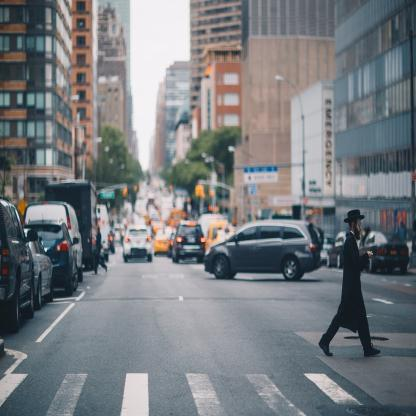Crosswalk: (0, 367, 416, 416)
